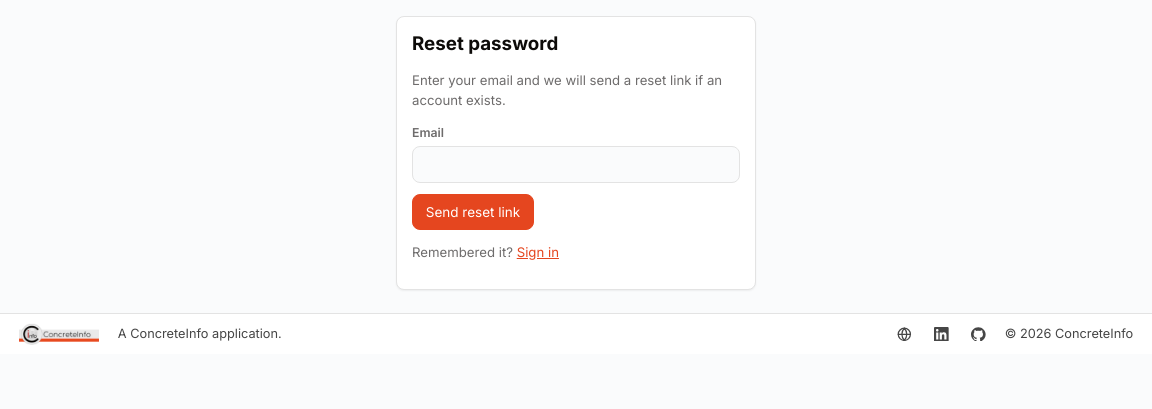
it: ForgotPasswordPage › rejects a malformed email without calling the API
Type "not-an-email" into the field labelled "Email" at (576, 165), box [412,146,740,183]
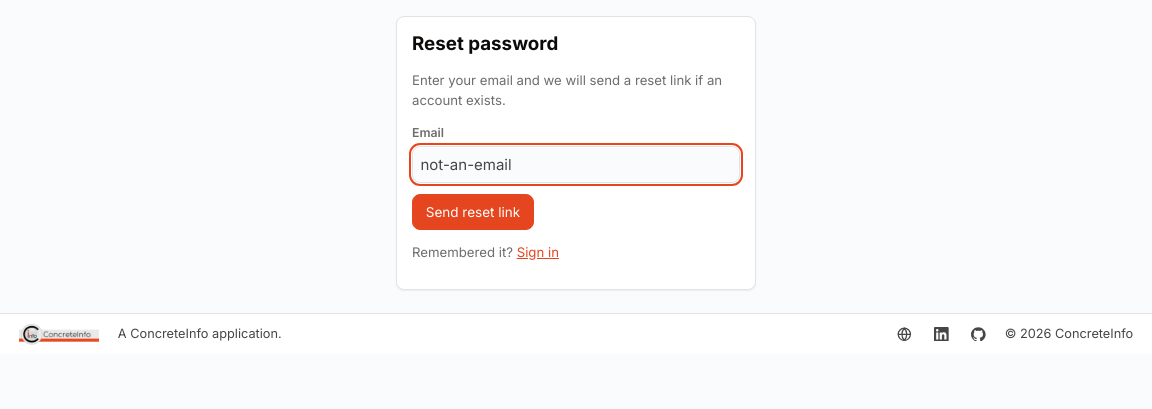
Click the button "Send reset link" at (473, 212), box [412,194,534,230]
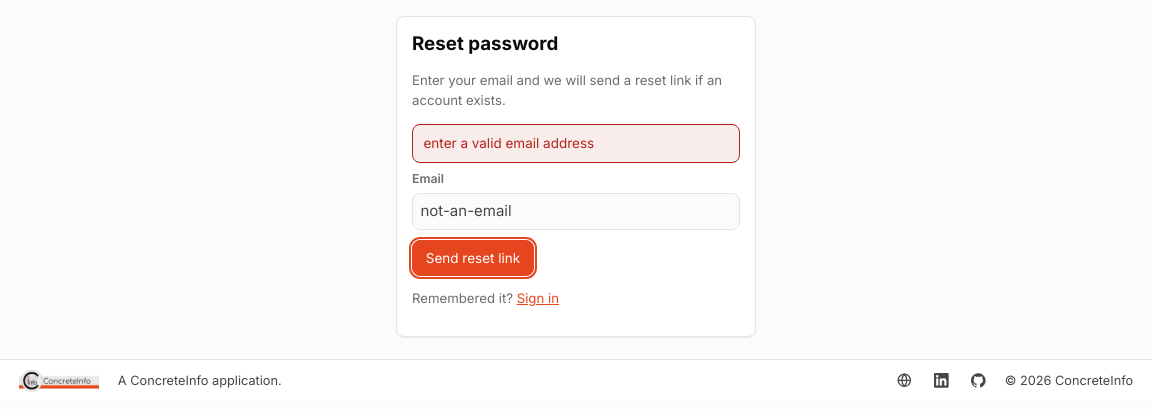
Expected: the message shows "valid email", [424,135,594,151]
